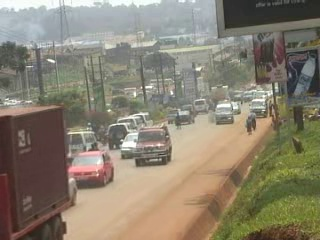Car: (65, 149, 116, 187), (131, 123, 173, 167), (104, 123, 138, 150), (105, 122, 134, 152), (118, 129, 137, 160), (175, 109, 196, 125), (163, 108, 180, 124), (228, 101, 243, 116)
Motorcycle: (95, 124, 109, 148), (85, 142, 101, 153)
